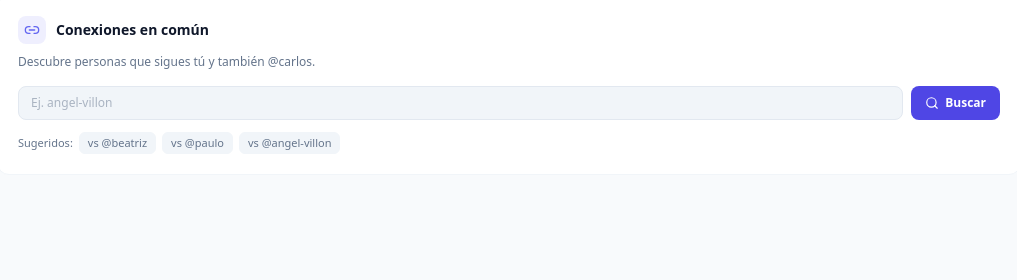
ConexionesComunesPanel › Lista con resultados › usa la inicial en mayúscula cuando la conexión no trae avatar
Type "angel-villon" into the field named "Identificador de la otra persona".
click(461, 102); type("angel-villon")  # box [18,86,903,120]
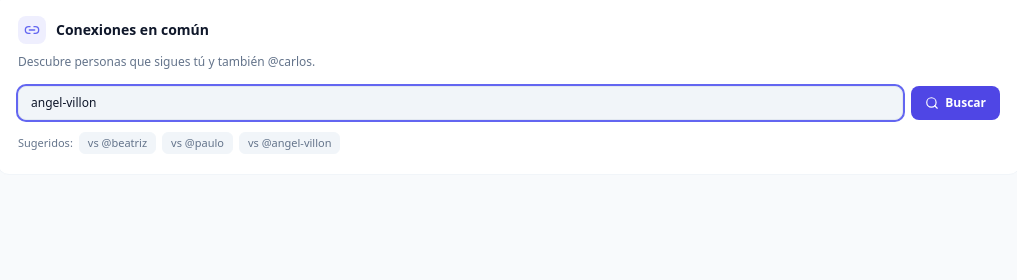
Click the button "Buscar".
click(956, 102)  # box [911,86,1000,120]
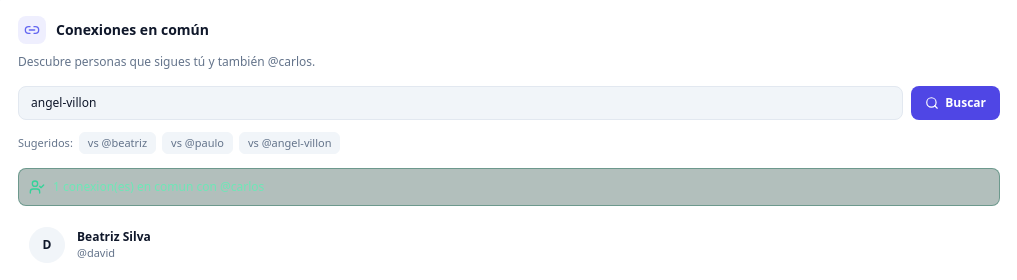
Result: the text "D" is shown at [29,227,65,263]
